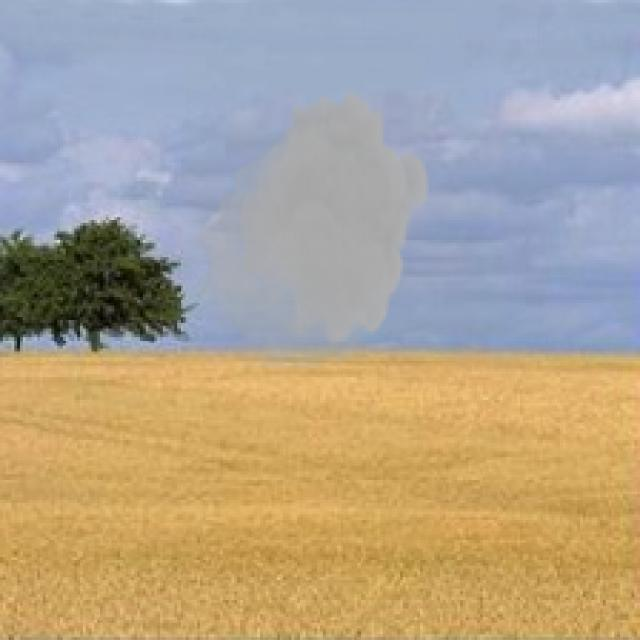smoke: (188, 85, 432, 368)
